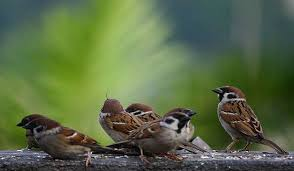hsparrow: (208, 85, 292, 171), (23, 117, 115, 167), (106, 111, 193, 160), (87, 95, 147, 159)
